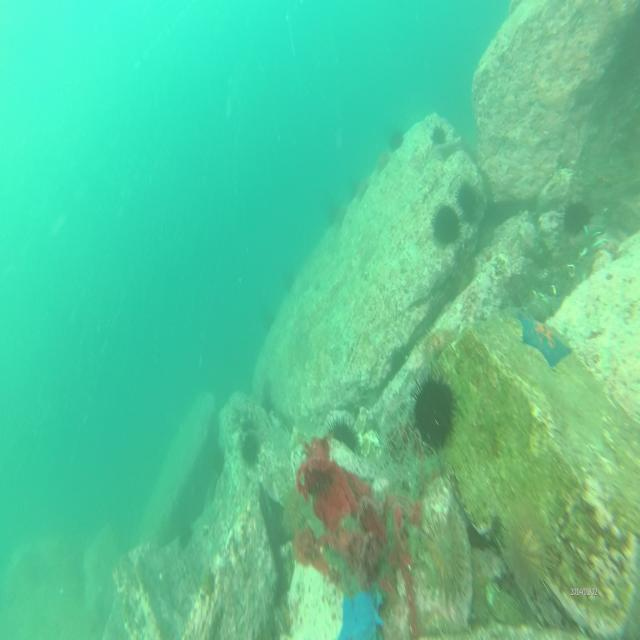echinus: (420, 506, 470, 604), (409, 374, 459, 454), (430, 200, 463, 252), (326, 413, 360, 463), (454, 177, 486, 224), (563, 198, 591, 239), (239, 427, 263, 467), (176, 516, 197, 552), (278, 262, 300, 296), (323, 196, 344, 227), (429, 120, 450, 150), (260, 306, 280, 335), (388, 122, 406, 154), (347, 173, 365, 197)
starfish: (519, 310, 572, 370)
